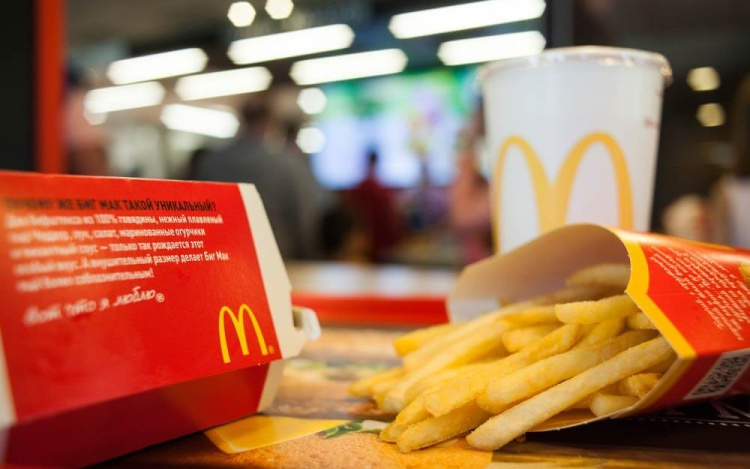mcdonalds: (216, 300, 268, 368)
